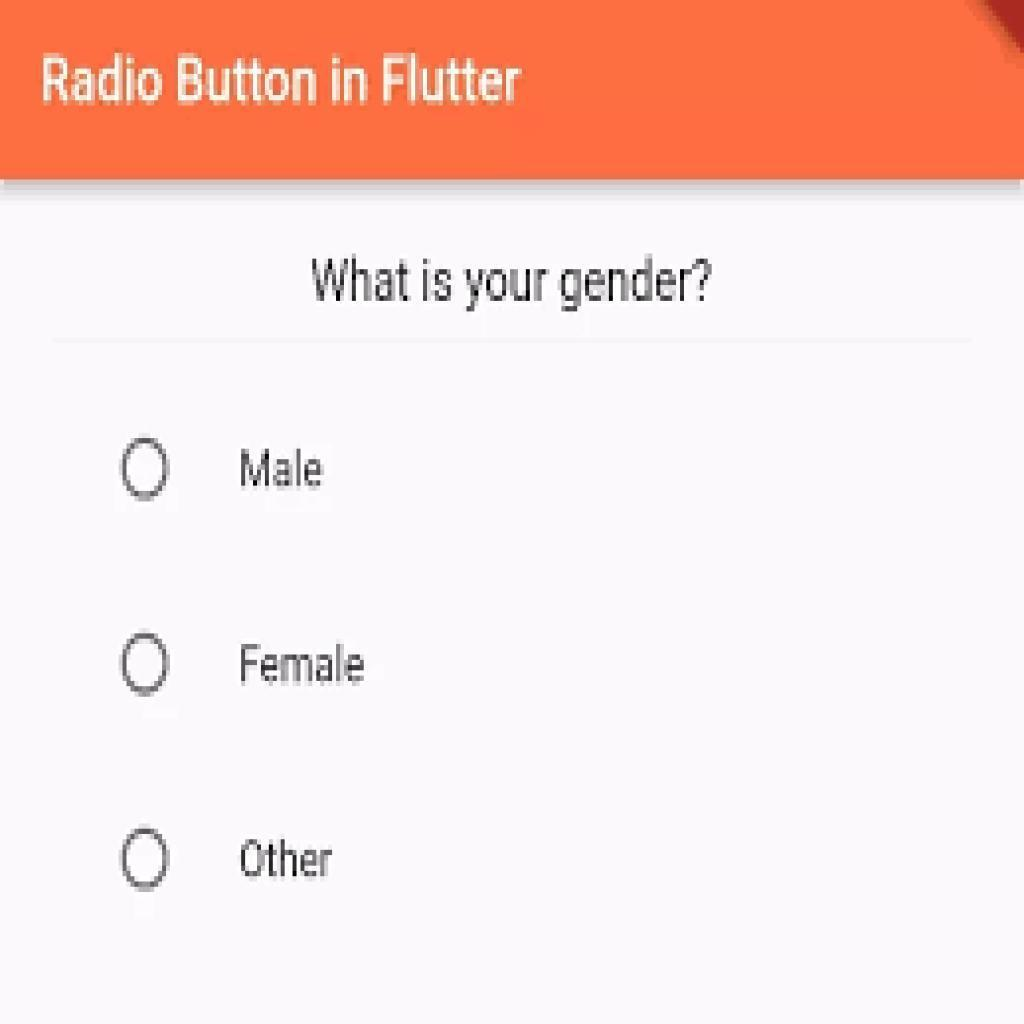label: (305, 242, 712, 313), (238, 637, 372, 687), (241, 441, 328, 496), (242, 835, 334, 886)
radio: (116, 432, 172, 504), (117, 633, 174, 697), (118, 828, 171, 894)
